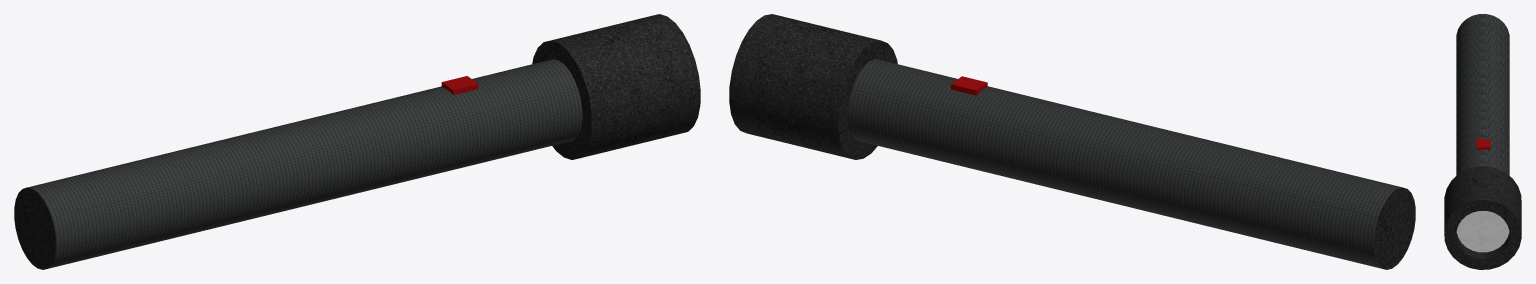
Rendered from Lanterna.dae.
3 views of the same model, side by side, from view 1: azimuth 30°, elevation 25°; view 2: azimuth 150°, elevation 25°; view 3: azimuth 270°, elevation 25° (orthographic). The views are drawn at different scales.
Visible parts, largest first — view 1: Componente_1 (×4); view 2: Componente_1 (×4); view 3: Componente_1 (×5).
Part boxes in pixels (x1,y1,x2,y2): Componente_1 (×4): (14,14,700,269); Componente_1 (×4): (729,14,1415,269); Componente_1 (×5): (1444,14,1521,269).
Bounding box in the file's own units: 684 × 114 × 114.
